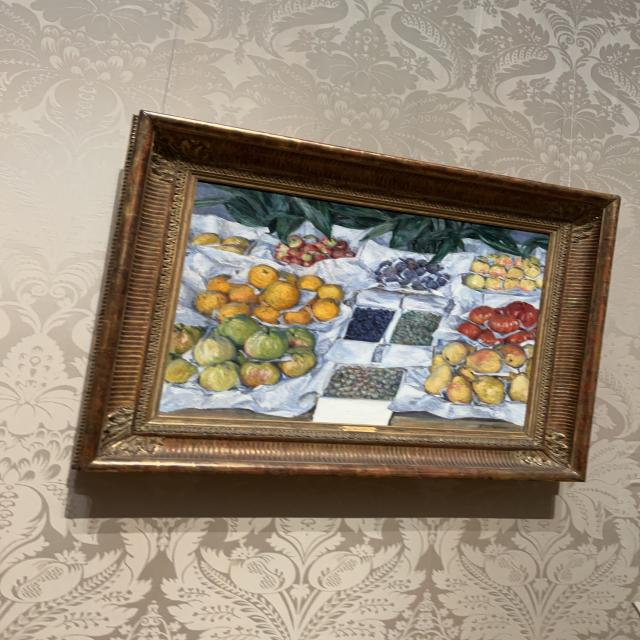fruits: (163, 185, 542, 428)
